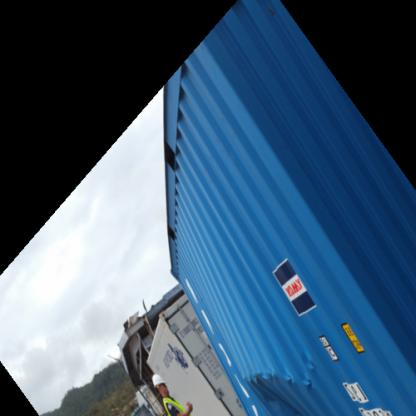Damage: (228, 342, 322, 414)
